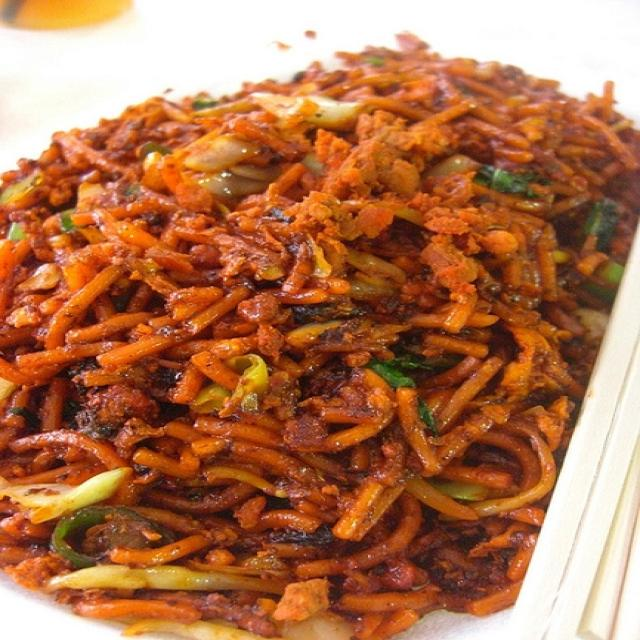面条主食: (8, 21, 632, 623)
